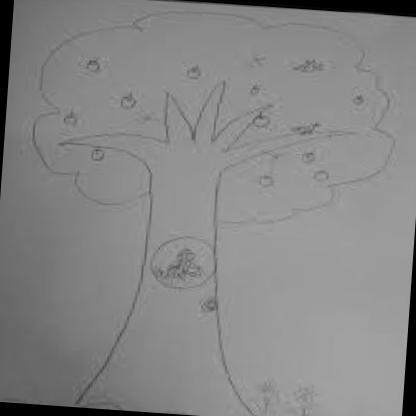apple: (62, 106, 82, 129), (82, 54, 102, 76), (256, 171, 278, 190), (119, 92, 140, 110), (250, 113, 272, 130), (88, 145, 107, 163)
bird: (290, 56, 329, 76)
branch_sharp: (58, 69, 360, 184)
crown_cloud: (26, 1, 402, 237)
knot: (194, 294, 218, 316)
trunk_straight: (111, 223, 236, 365)
